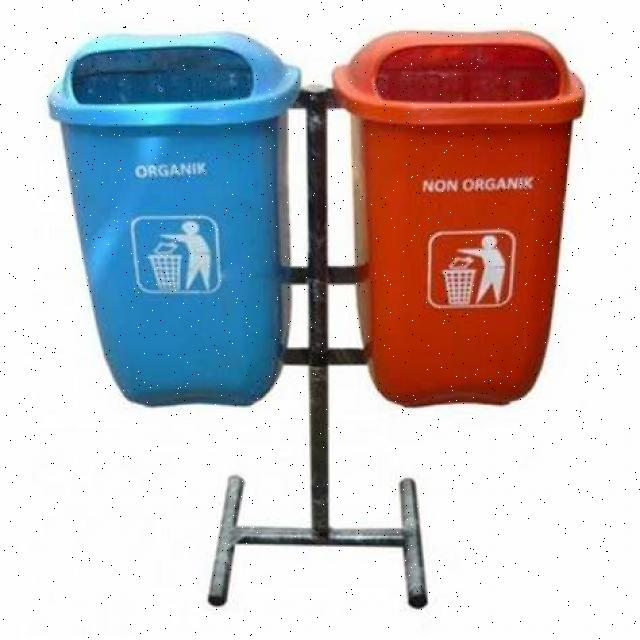garbage container: (34, 14, 326, 465), (337, 19, 612, 467)
